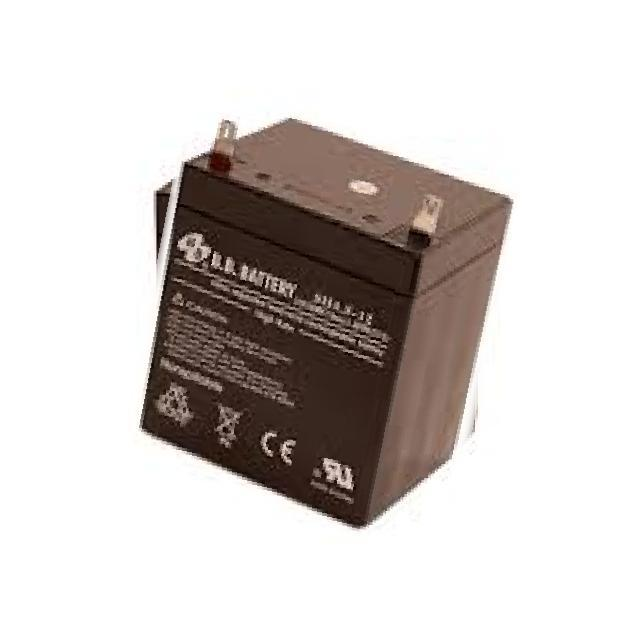Battery: (104, 96, 522, 542)
